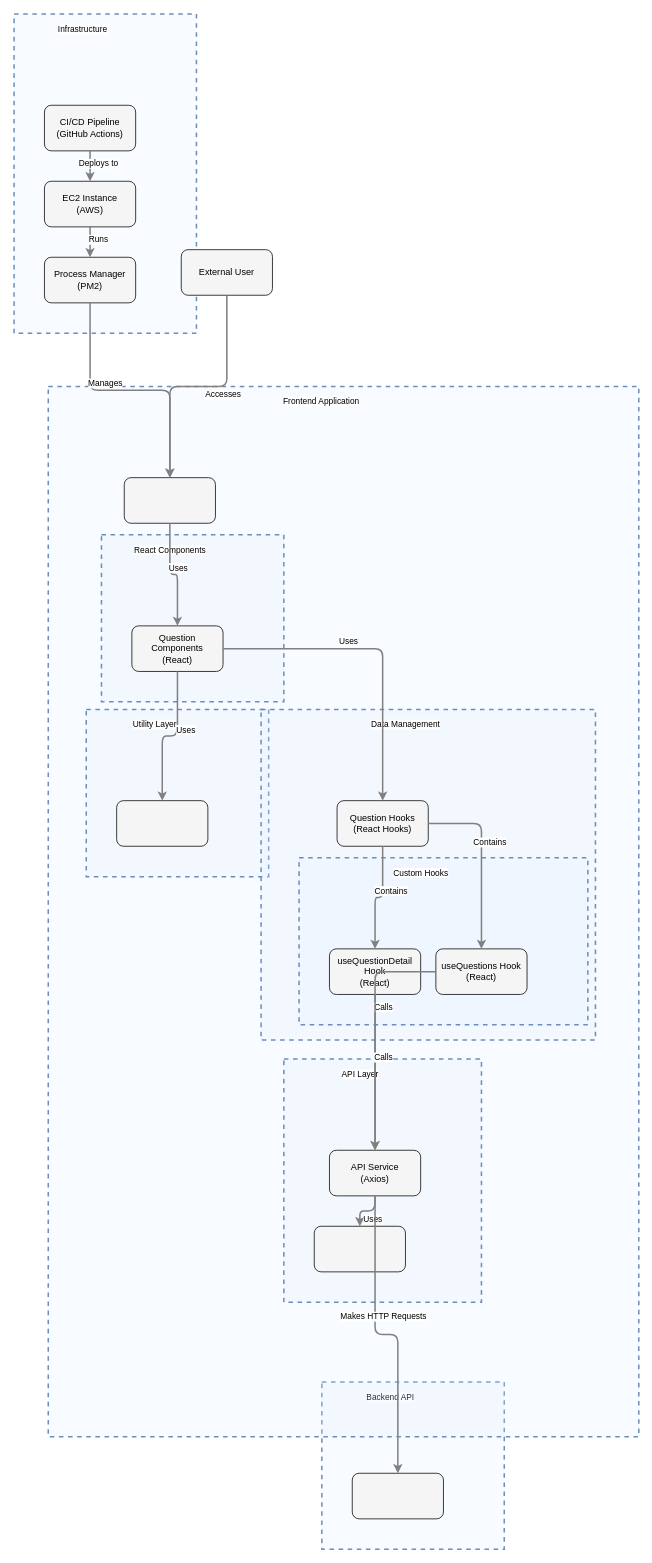
Image size: 652x1563. Some labels were removed from this diagram. Here are the shapes that lost their labels. From the top down, the centre of each, then its label:
(x=169, y=500): Frontend App (Next.js)
(x=162, y=823): Date Formatter (JavaScript)
(x=359, y=1249): API Constants (JavaScript)
(x=397, y=1495): REST API (v1)
